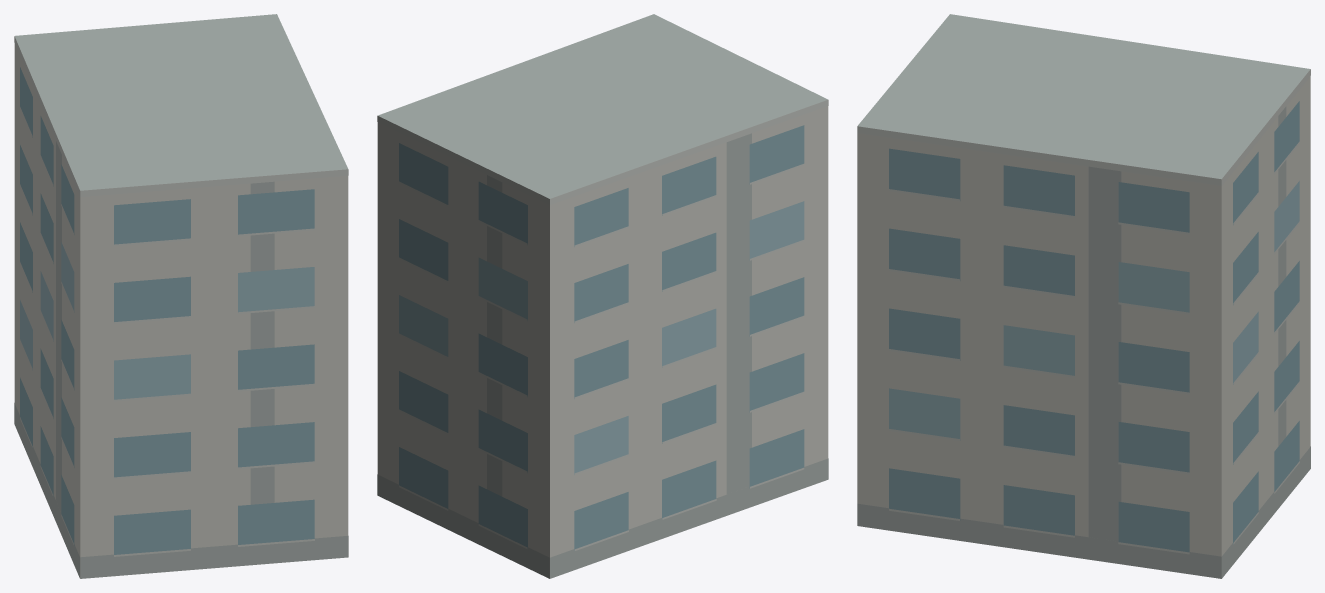
File: survey-upis-32891020.glb
The picture shows the model from 3 angles, left to right: view 1: azimuth 30°, elevation 25°; view 2: azimuth 150°, elevation 25°; view 3: azimuth 270°, elevation 25°; orthographic projection. The views are drawn at different scales.
Visible parts, largest first — view 1: survey-upis-32891020.tmp; view 2: survey-upis-32891020.tmp; view 3: survey-upis-32891020.tmp.
Boxes of the visible parts, x1,y1,x2,y2 form: survey-upis-32891020.tmp: (14,14,348,578); survey-upis-32891020.tmp: (377,14,828,578); survey-upis-32891020.tmp: (857,14,1310,578).
Size of the model in its own units: 12.86 by 14.5 by 14.92.
